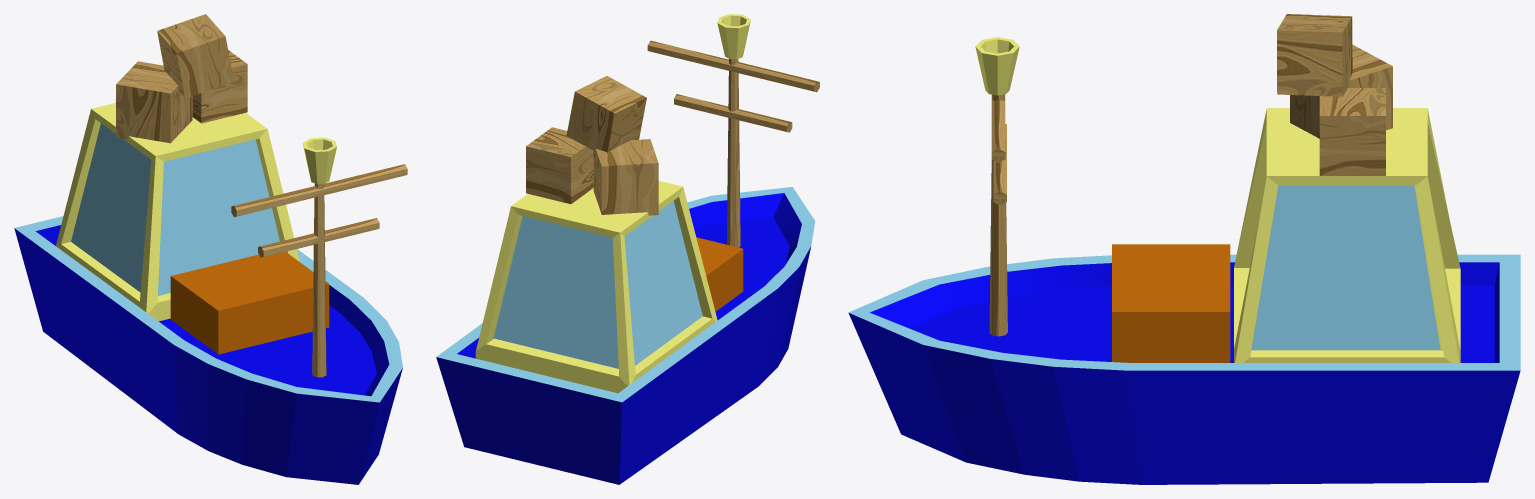
The model's file is ship.fbx.
3 views of the same model, side by side, from view 1: azimuth 30°, elevation 25°; view 2: azimuth 150°, elevation 25°; view 3: azimuth 270°, elevation 25° (orthographic). The views are drawn at different scales.
Parts seen in each view (by area): view 1: ship; view 2: ship; view 3: ship.
Boxes of the visible parts, x1=… form: ship: x1=14, y1=14, x2=407, y2=484; ship: x1=436, y1=14, x2=819, y2=484; ship: x1=848, y1=14, x2=1520, y2=484.
Size of the model in its own units: 124 by 208 by 304.
5 materials, 1 textured.
